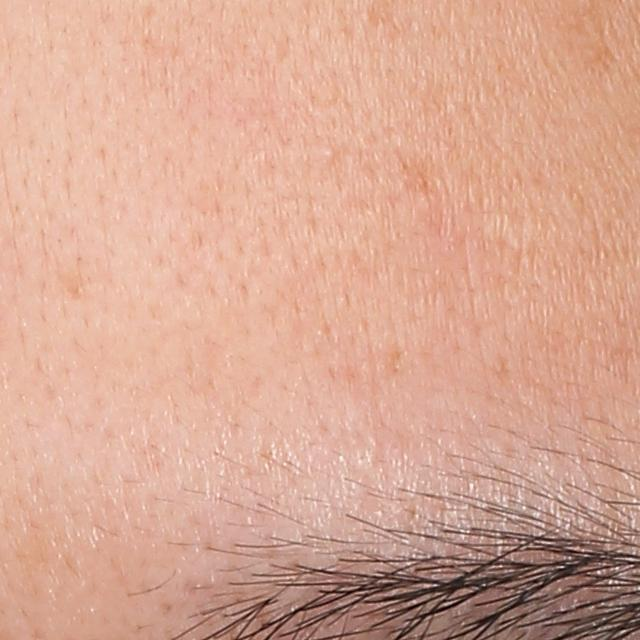comedo: (316, 145, 344, 166)
